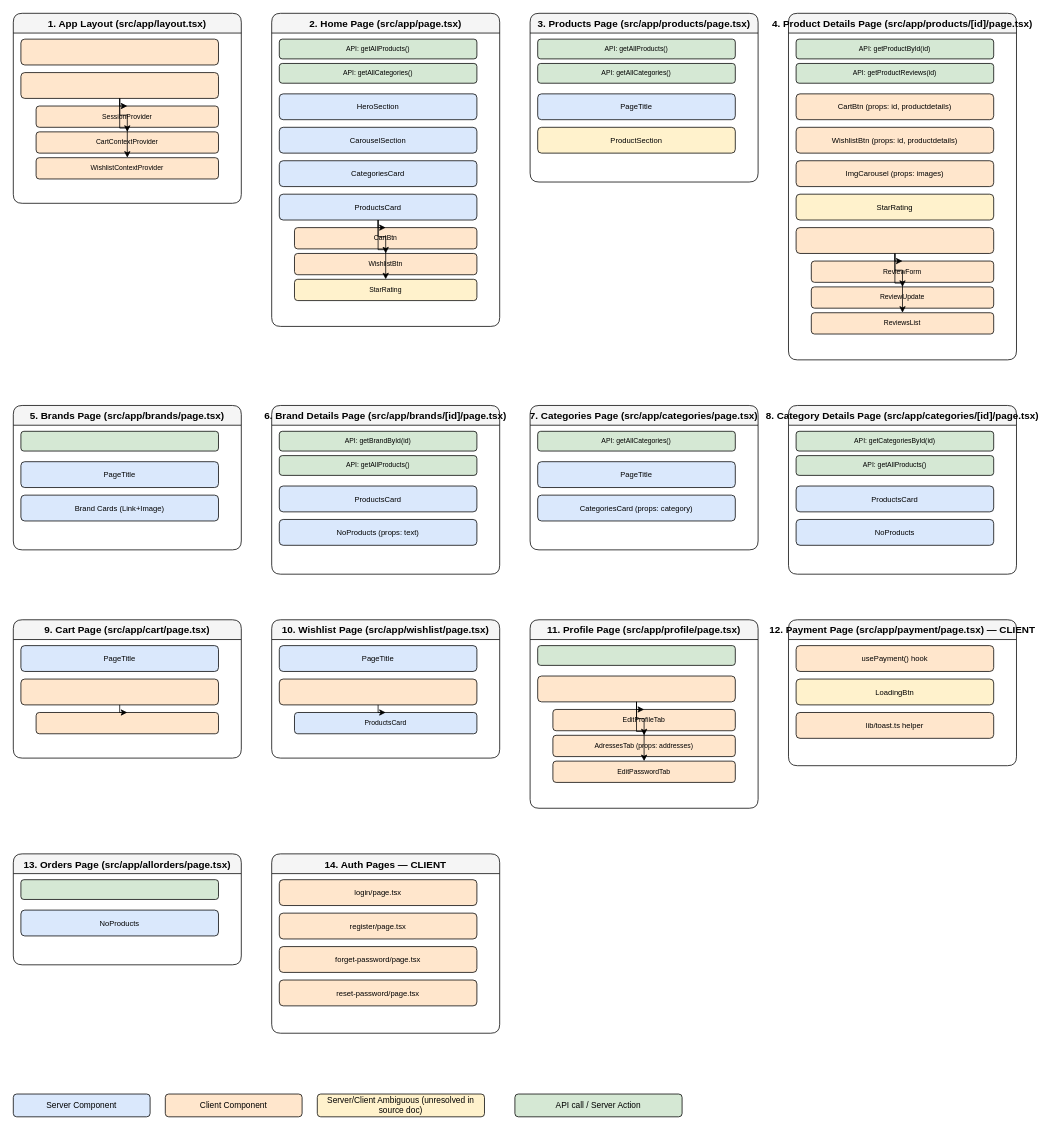
This 1053x1130 diagram has some shape labels left out. Each missing label, with the centre of its shape:
API: getAllBrands(): the point at 119,441
API: getloggedUserAddressesAction() [server action]: the point at 636,655
API: getUserOrderAction() [server action]: the point at 119,889
CartCard (props: product:CartItem): the point at 126,723
CartProductsSection: the point at 119,691
NavBar: the point at 119,51
ProductReviewsSection (props: id, initialReviews): the point at 894,240
ProfileSection (props: addresses): the point at 636,688
Providers: the point at 119,85
WishlistProductsSection: the point at 378,691
